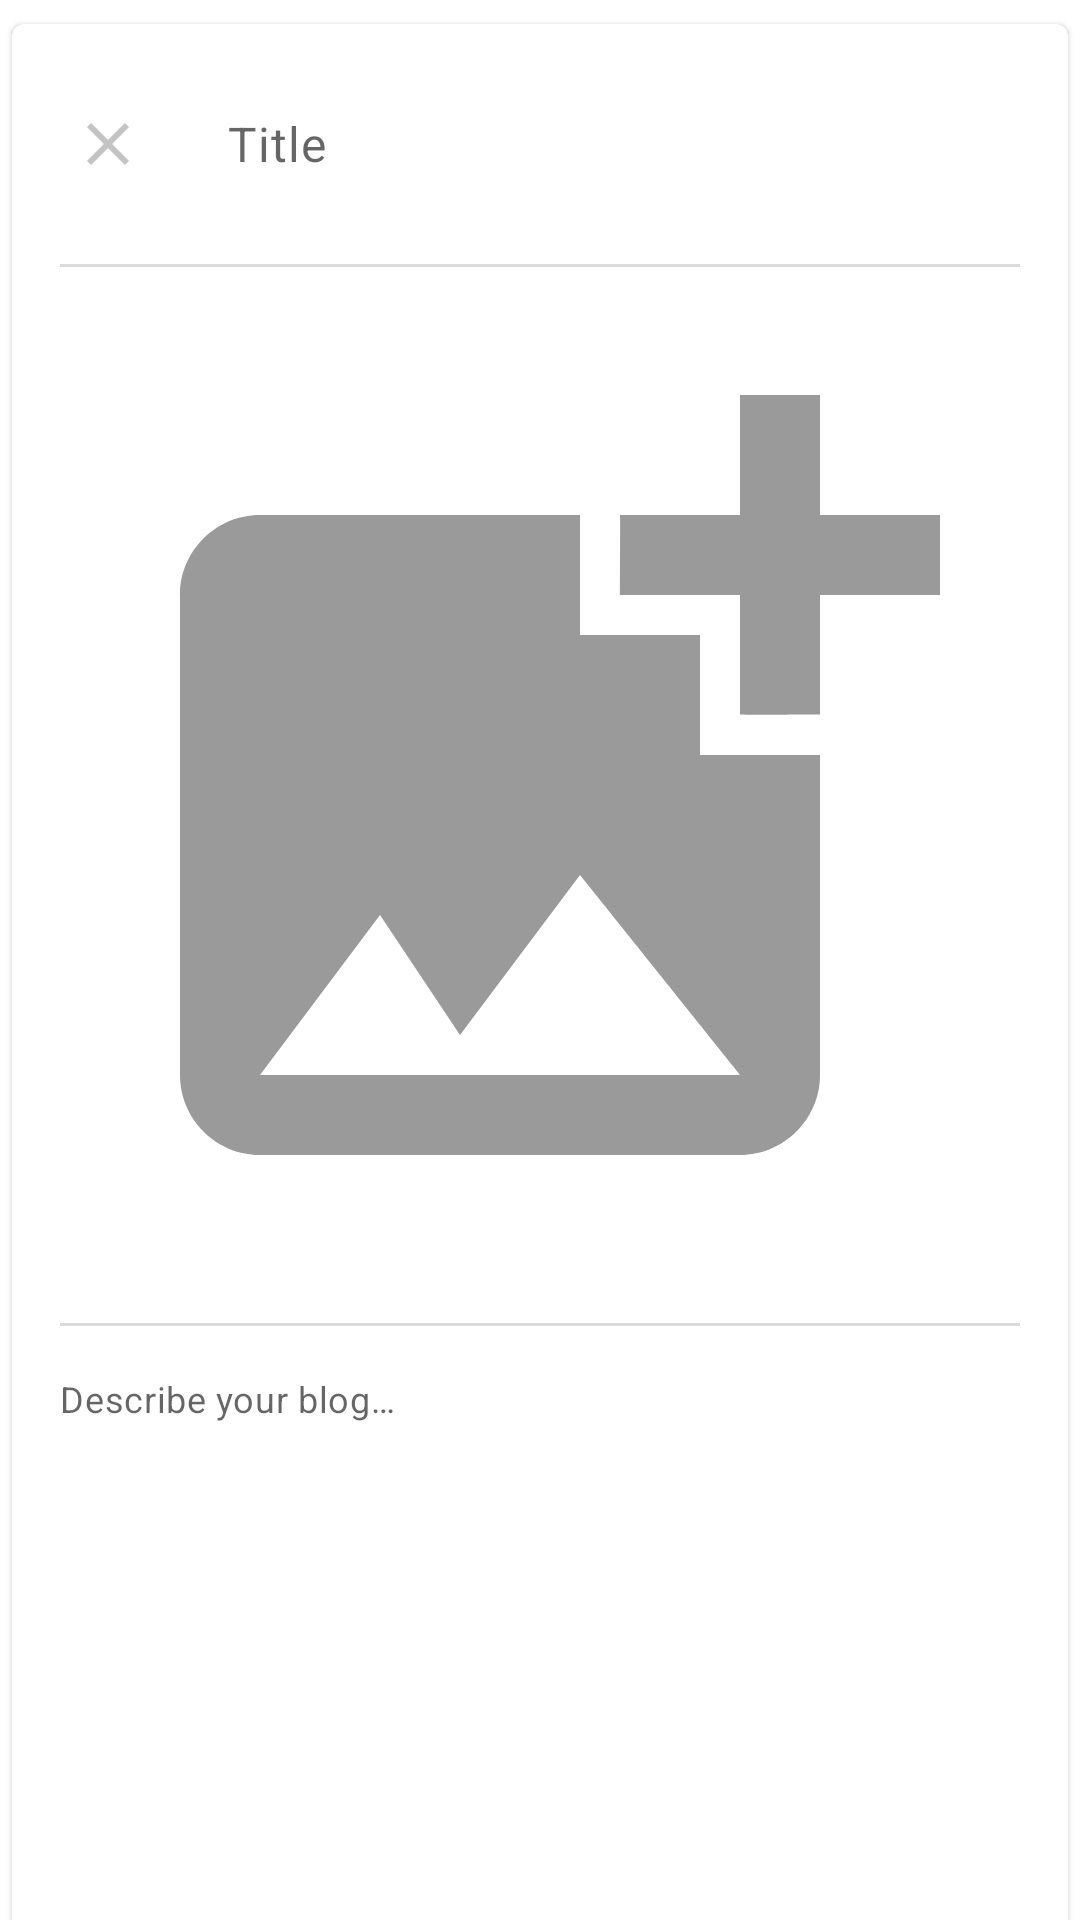

Named icons in this screenshot (1080*1920) and their centers, (x=x, y=y):
close updating password: (x=108, y=144)
